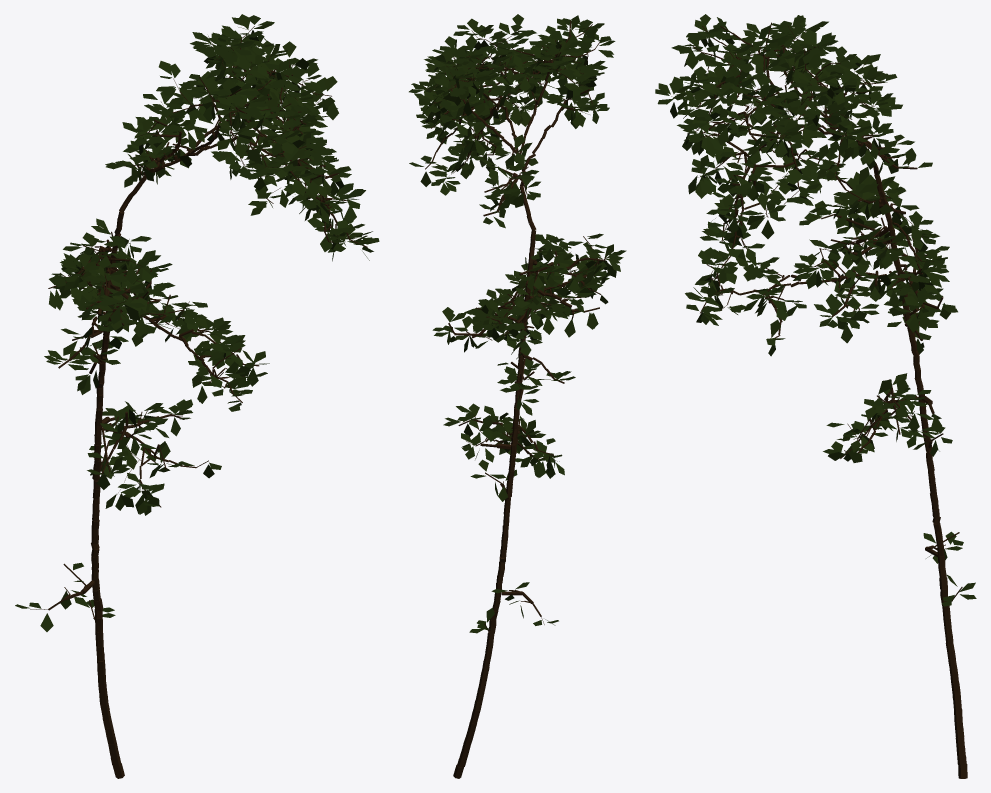
File: tree_91.obj
3 renders of one model, left to right at view 1: azimuth 30°, elevation 25°; view 2: azimuth 150°, elevation 25°; view 3: azimuth 270°, elevation 25°, orthographic. The views are drawn at different scales.
Visible parts, largest first — view 1: Leaves, TrunkAndBranches; view 2: Leaves, TrunkAndBranches; view 3: Leaves, TrunkAndBranches.
Boxes of the visible parts, x1,y1,x2,y2 form: Leaves: [15, 14, 379, 631]; TrunkAndBranches: [30, 26, 367, 778]; Leaves: [409, 14, 626, 633]; TrunkAndBranches: [424, 21, 606, 778]; Leaves: [655, 14, 976, 606]; TrunkAndBranches: [671, 22, 967, 778].
Size of the model in its own units: 4.05 by 11.82 by 4.48.
